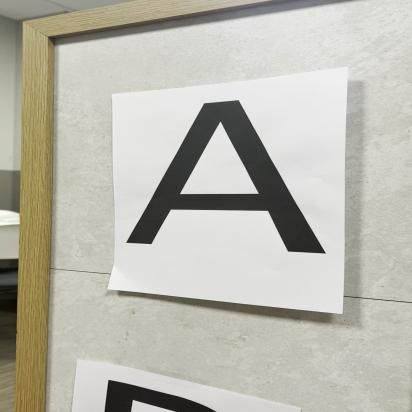seat: (132, 92, 328, 262)
